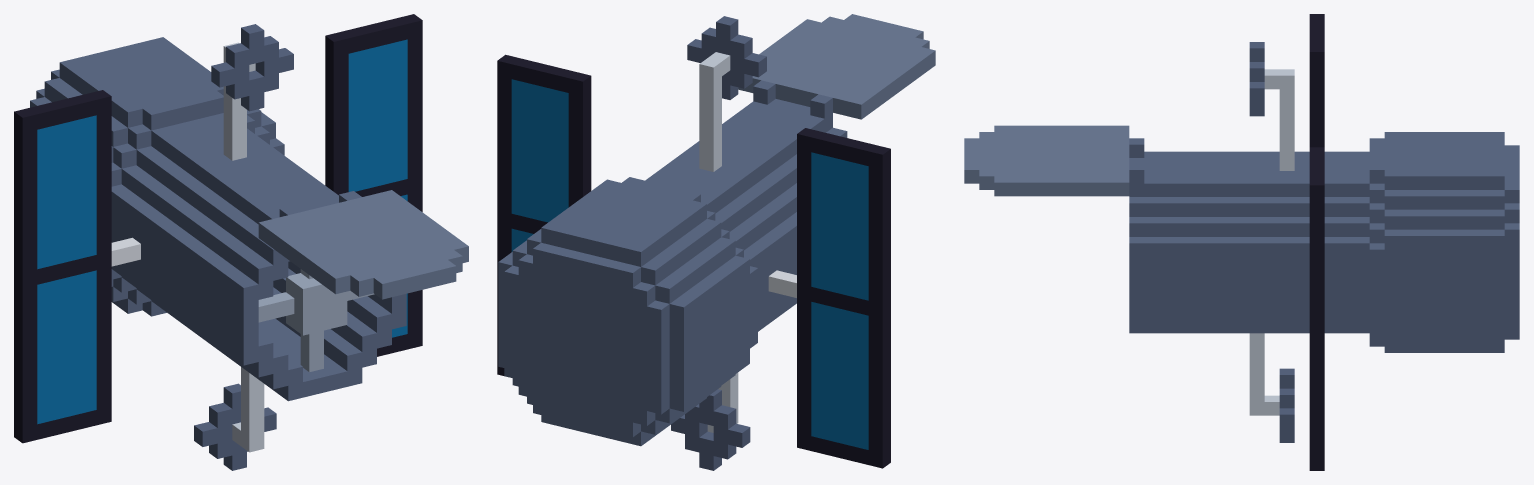
The model's file is space_telescope.obj.
3 views of the same model, side by side, from view 1: azimuth 30°, elevation 25°; view 2: azimuth 150°, elevation 25°; view 3: azimuth 270°, elevation 25° (orthographic). The views are drawn at different scales.
Size of the model in its own units: 2.7 by 2.9 by 3.7.
Materials: 1 (1 with a texture image).
